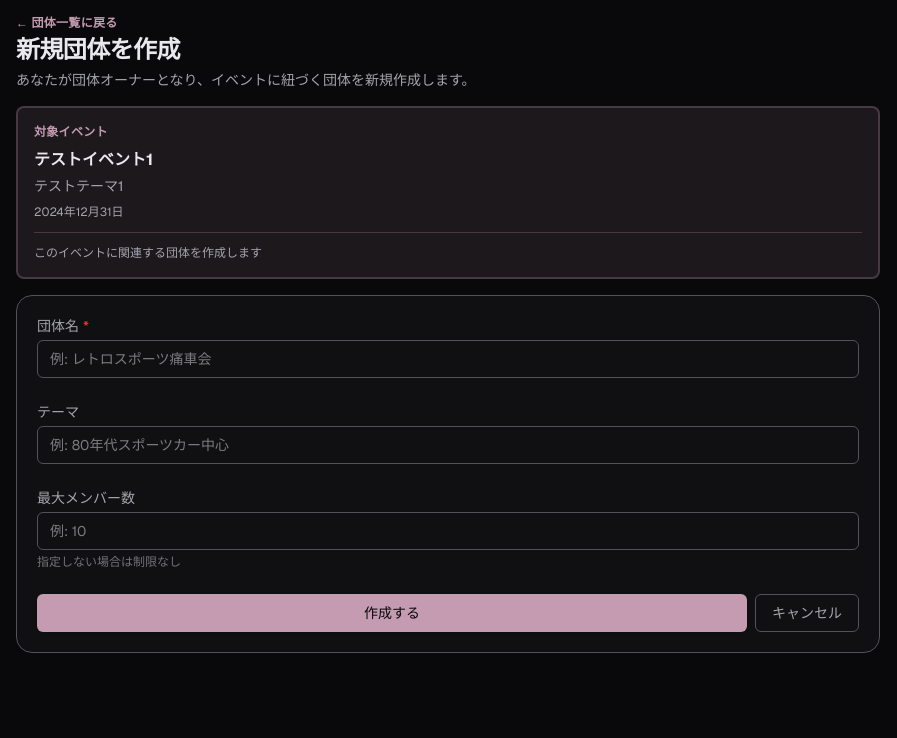
Scenario: NewGroupPage › フォーム画面（eventId指定時） › フォーム送信時にエラーが発生した場合、エラーメッセージを表示する
Type "新しい団体" into the field with placeholder "例: レトロスポーツ痛車会" at (448, 359), box [37,340,859,378]
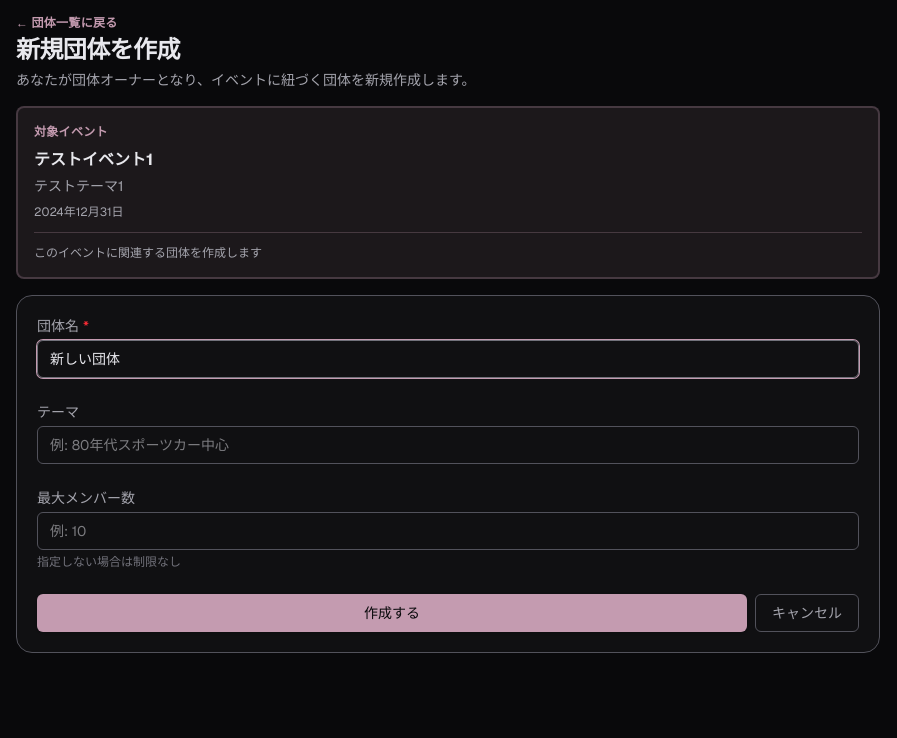
Click the button "作成する" at (392, 613), box [37,594,747,632]
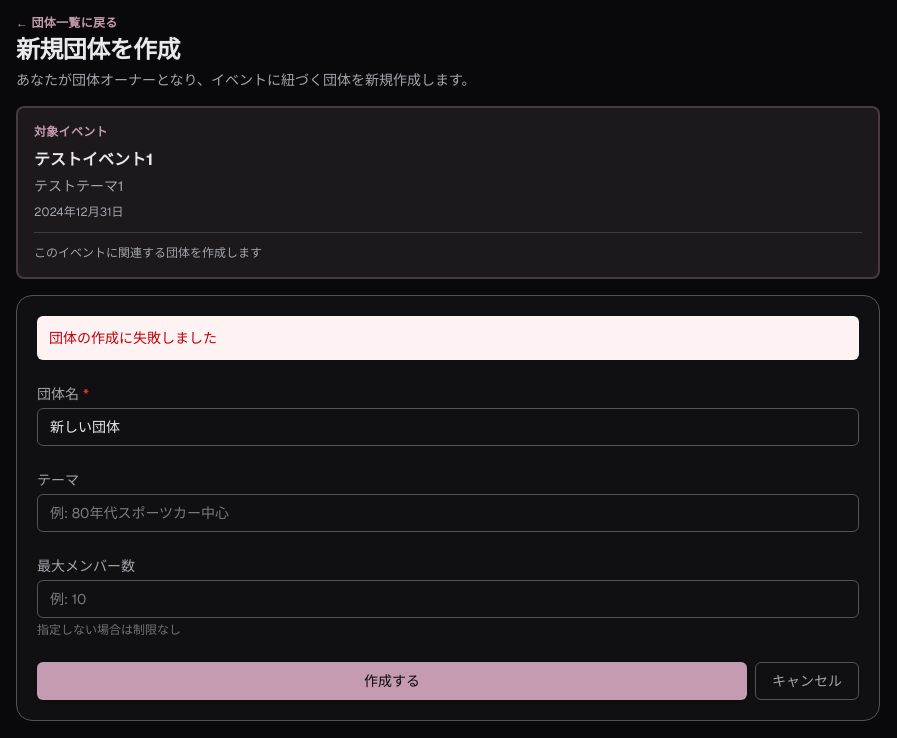
Check: the text "団体の作成に失敗しました" is shown, box [37,316,859,360]
